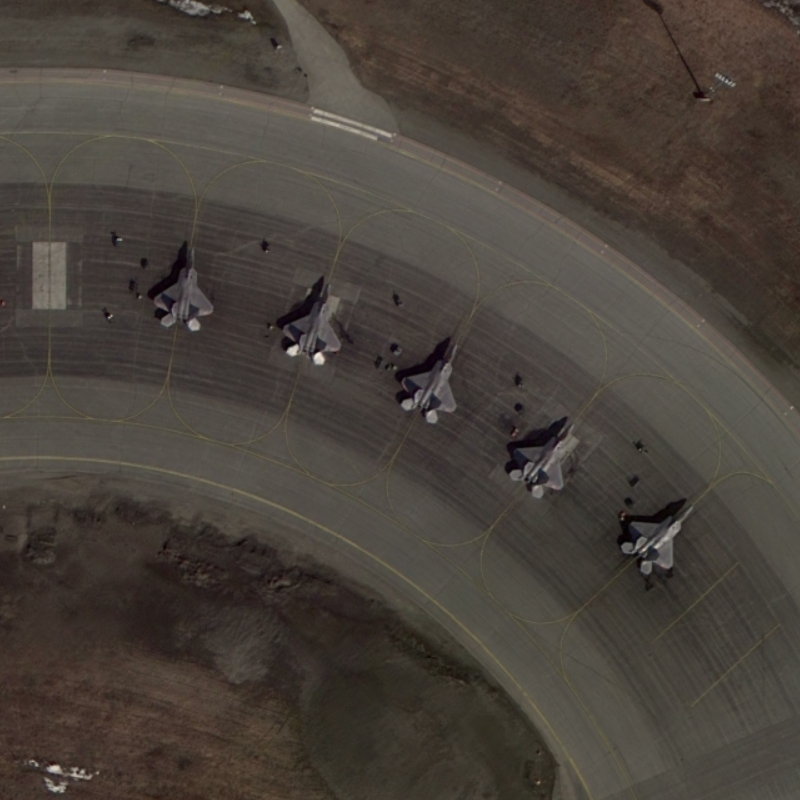A15: (274, 268, 354, 372), (387, 328, 466, 428), (142, 241, 223, 338), (498, 415, 580, 504), (617, 496, 698, 583)
